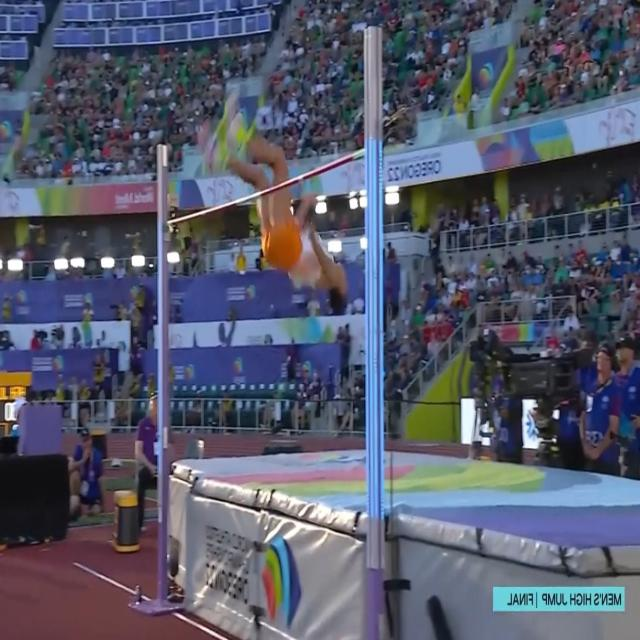land: (207, 102, 349, 316)
